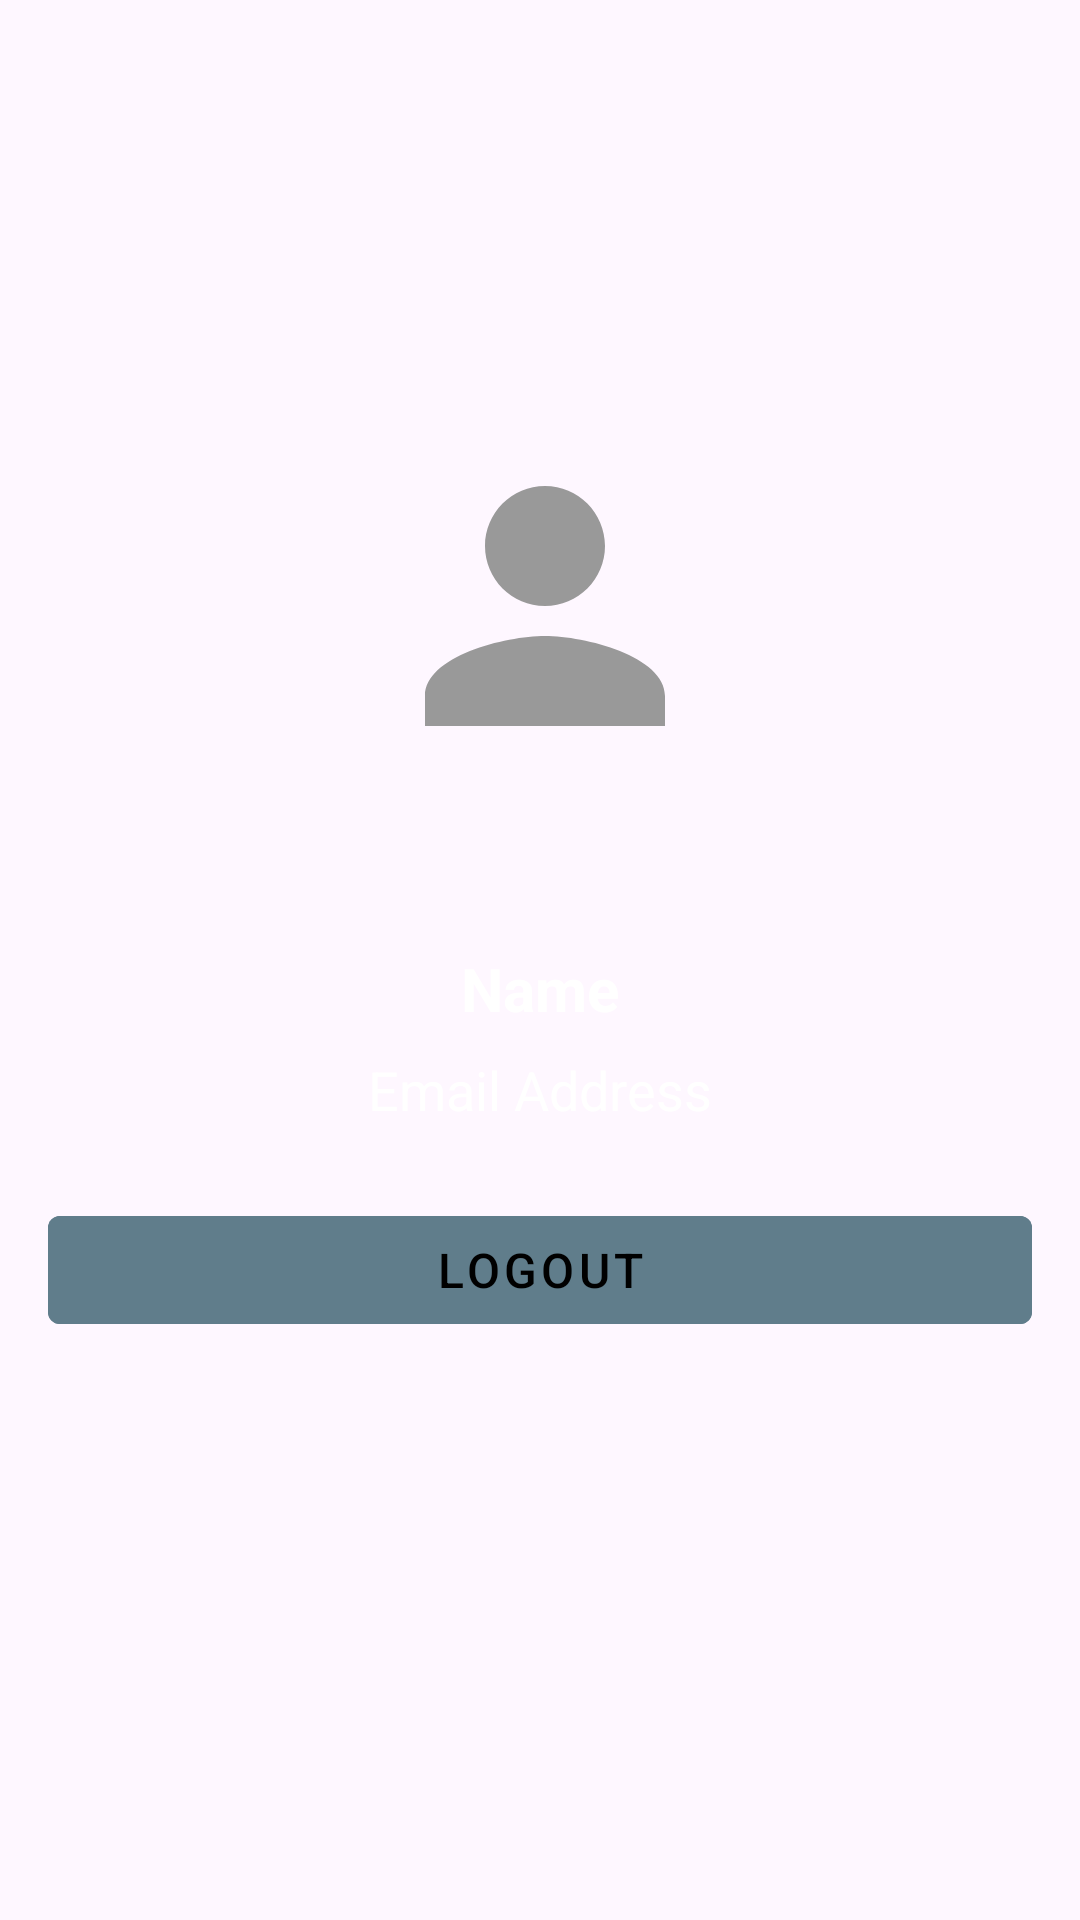

Icon click points for this 1080 × 1920 phone screenshot, format (x=x, y=y):
Profile: (x=545, y=606)
